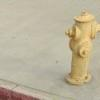a fire hydrant: (66, 14, 97, 87)
